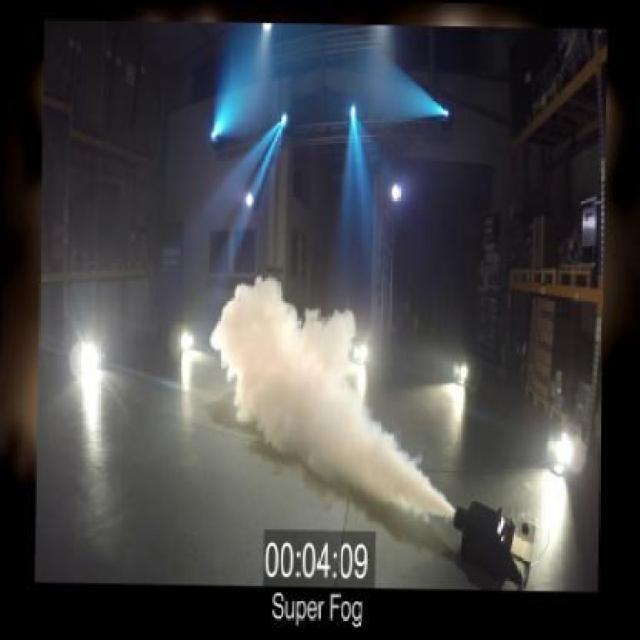fire: (205, 273, 424, 519)
